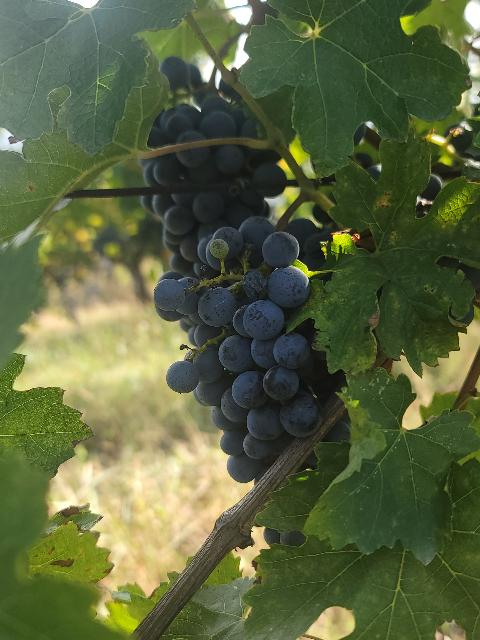grapes: (154, 216, 344, 482), (151, 185, 266, 262), (148, 94, 258, 146), (152, 145, 280, 186)
